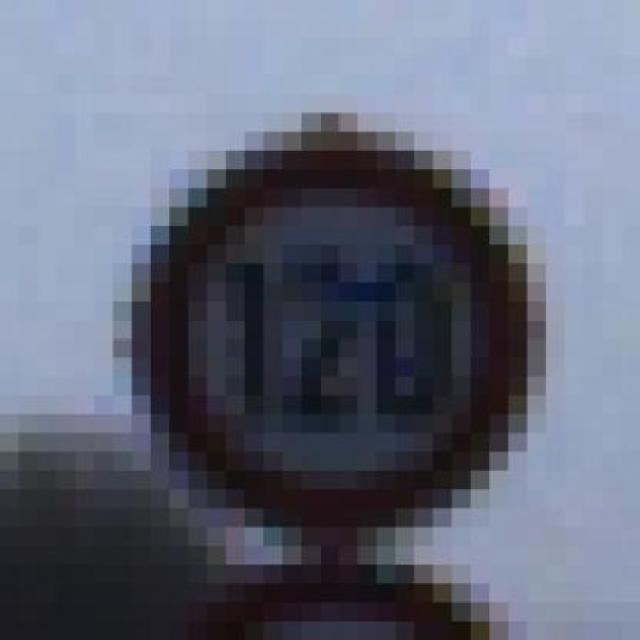forb_speed_over_120: (147, 146, 519, 526)
